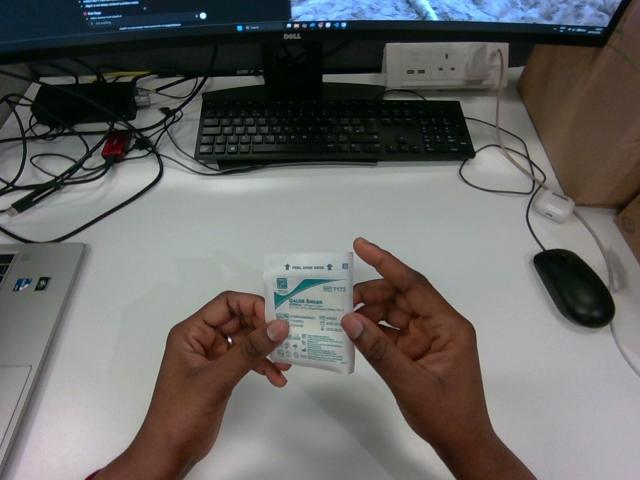gauze: (264, 253, 354, 373)
